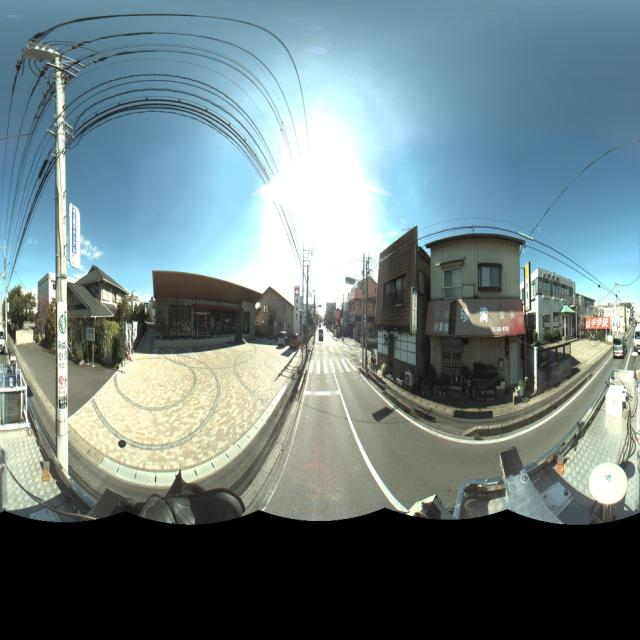b_1: (426, 219, 524, 395), (152, 266, 260, 362), (376, 230, 428, 390), (519, 253, 577, 351), (68, 262, 134, 338), (253, 280, 297, 345), (345, 264, 379, 332), (598, 296, 632, 341), (576, 284, 594, 328)
